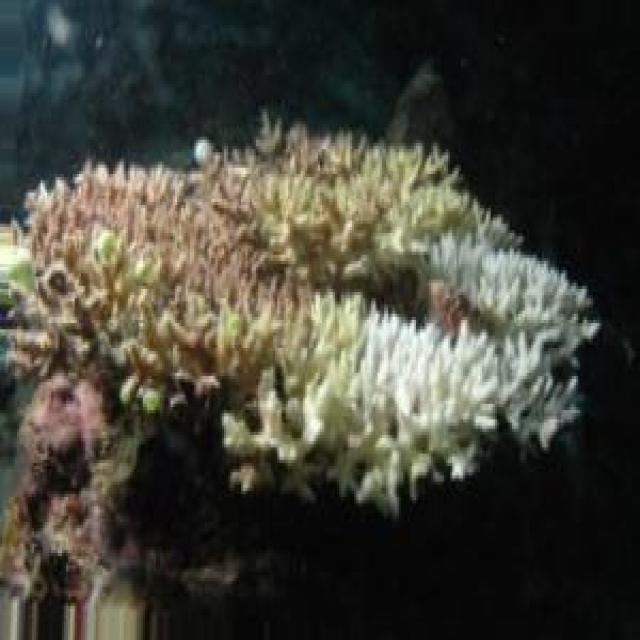bleached coral: (305, 295, 496, 512), (431, 233, 598, 384)
healthy coral: (26, 153, 284, 367)
